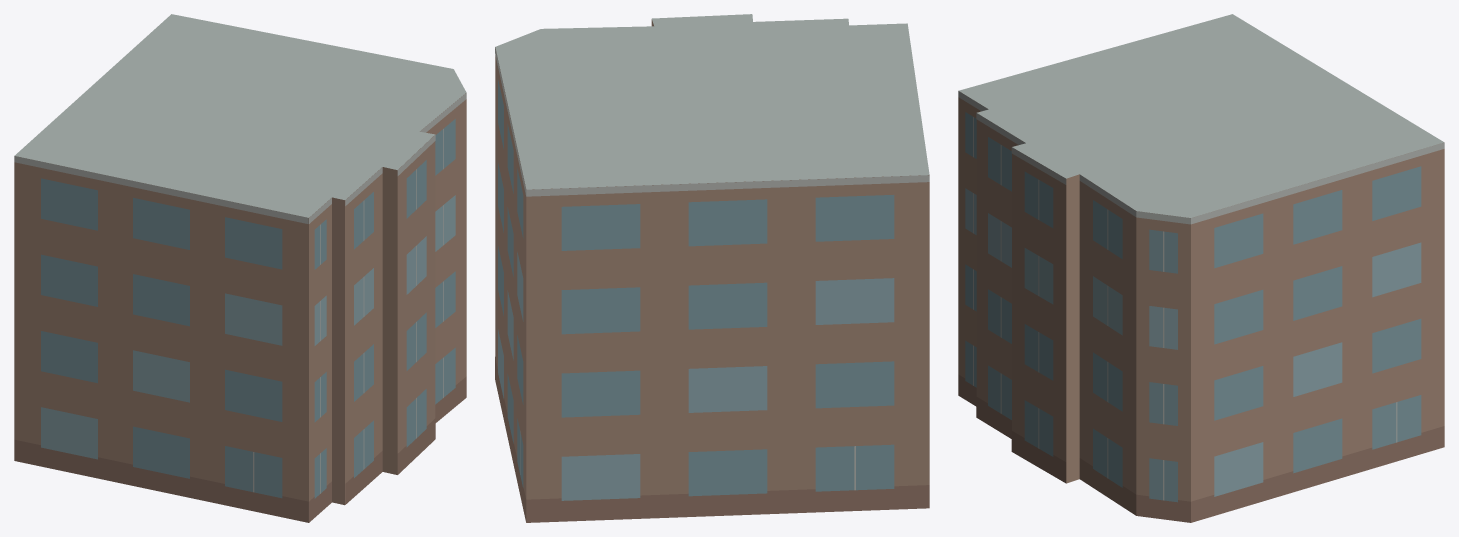
The model's file is survey-upis-32754518.glb.
3 renders of one model, left to right at view 1: azimuth 30°, elevation 25°; view 2: azimuth 150°, elevation 25°; view 3: azimuth 270°, elevation 25°, orthographic. The views are drawn at different scales.
Visible parts, largest first — view 1: survey-upis-32754518.tmp; view 2: survey-upis-32754518.tmp; view 3: survey-upis-32754518.tmp.
Part boxes in pixels (bbox=[...]): survey-upis-32754518.tmp: bbox=[14, 14, 466, 522]; survey-upis-32754518.tmp: bbox=[495, 14, 929, 522]; survey-upis-32754518.tmp: bbox=[958, 14, 1444, 522].
Bounding box in the file's own units: 16.67 × 11.6 × 16.77.
